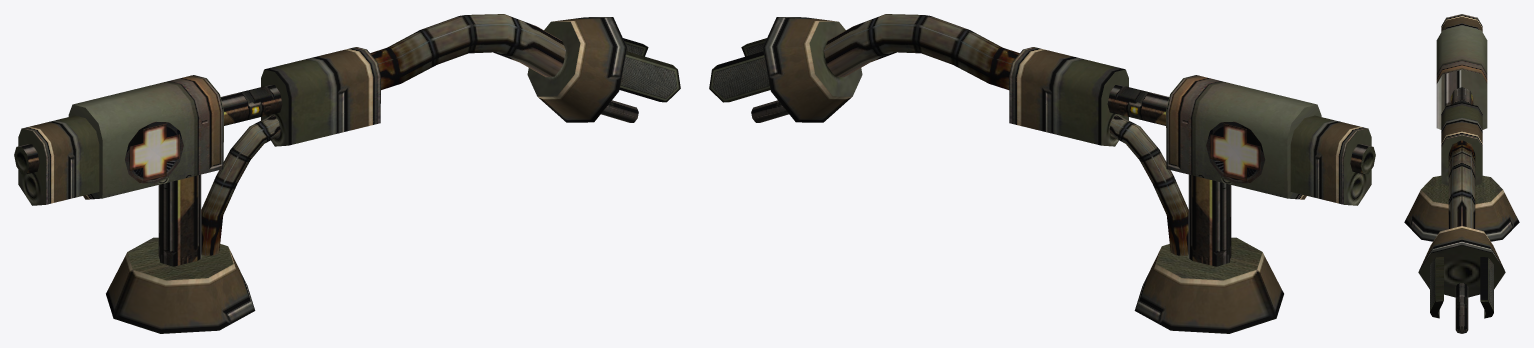
The model's file is medic.obj.
3 views of the same model, side by side, from view 1: azimuth 30°, elevation 25°; view 2: azimuth 150°, elevation 25°; view 3: azimuth 270°, elevation 25° (orthographic). The views are drawn at different scales.
Parts seen in each view (by area): view 1: group29 pCylinder3, group29 pCylinder5, pCylinder1 group29, group29 pCylinder20, group29 pCylinder20 pCylinder21, group29 pCylinder19, group29 pCylinder4, group29 pCylinder7, group29 pCylinder2, group29 pCylinder20 pCylinder21 pCube58, group29 pCylinder3 polySurface65, group29 pCylinder3 pCylinder23 (+1 smaller); view 2: group29 pCylinder3, group29 pCylinder5, pCylinder1 group29, group29 pCylinder20, group29 pCylinder20 pCylinder21, group29 pCylinder19, group29 pCylinder4, group29 pCylinder7, group29 pCylinder2, group29 pCylinder20 pCylinder21 pCube59, group29 pCylinder3 polySurface66, group29 pCylinder3 pCylinder23 (+1 smaller); view 3: group29 pCylinder5, group29 pCylinder3, group29 pCylinder20 pCylinder21, group29 pCylinder20, pCylinder1 group29, group29 pCylinder20 pCylinder21 pCube58, group29 pCylinder20 pCylinder21 pCube59, group29 pCylinder20 pCylinder21 pCylinder22, group29 pCylinder19, group29 pCylinder2.
Part boxes in pixels (x1,y1,x2,y2): group29 pCylinder3: (68, 75, 223, 199); group29 pCylinder5: (106, 237, 255, 333); pCylinder1 group29: (261, 47, 380, 146); group29 pCylinder20: (370, 14, 565, 89); group29 pCylinder20 pCylinder21: (527, 17, 626, 122); group29 pCylinder19: (18, 115, 99, 205); group29 pCylinder4: (158, 174, 201, 266); group29 pCylinder7: (201, 115, 280, 255); group29 pCylinder2: (14, 85, 282, 174); group29 pCylinder20 pCylinder21 pCube58: (619, 51, 680, 102); group29 pCylinder3 polySurface65: (129, 123, 179, 181); group29 pCylinder3 pCylinder23: (125, 121, 183, 183); group29 pCylinder3: (1166, 75, 1321, 199); group29 pCylinder5: (1134, 237, 1283, 333); pCylinder1 group29: (1009, 47, 1128, 146); group29 pCylinder20: (824, 14, 1019, 89); group29 pCylinder20 pCylinder21: (763, 17, 862, 122); group29 pCylinder19: (1290, 115, 1371, 205); group29 pCylinder4: (1188, 174, 1231, 266); group29 pCylinder7: (1109, 115, 1188, 255); group29 pCylinder2: (1107, 85, 1375, 174); group29 pCylinder20 pCylinder21 pCube59: (709, 51, 770, 102); group29 pCylinder3 polySurface66: (1210, 123, 1260, 181); group29 pCylinder3 pCylinder23: (1206, 121, 1265, 183); group29 pCylinder5: (1404, 175, 1519, 241); group29 pCylinder3: (1436, 25, 1487, 129); group29 pCylinder20 pCylinder21: (1418, 226, 1505, 297); group29 pCylinder20: (1448, 140, 1475, 228); pCylinder1 group29: (1441, 102, 1482, 185); group29 pCylinder20 pCylinder21 pCube58: (1430, 257, 1443, 318); group29 pCylinder20 pCylinder21 pCube59: (1480, 257, 1493, 318); group29 pCylinder20 pCylinder21 pCylinder22: (1455, 283, 1468, 333); group29 pCylinder19: (1441, 14, 1482, 31); group29 pCylinder2: (1450, 87, 1473, 104).
Bounding box in the file's own units: 22.03 × 7.18 × 4.62.
Materials: 4 (4 with a texture image).
